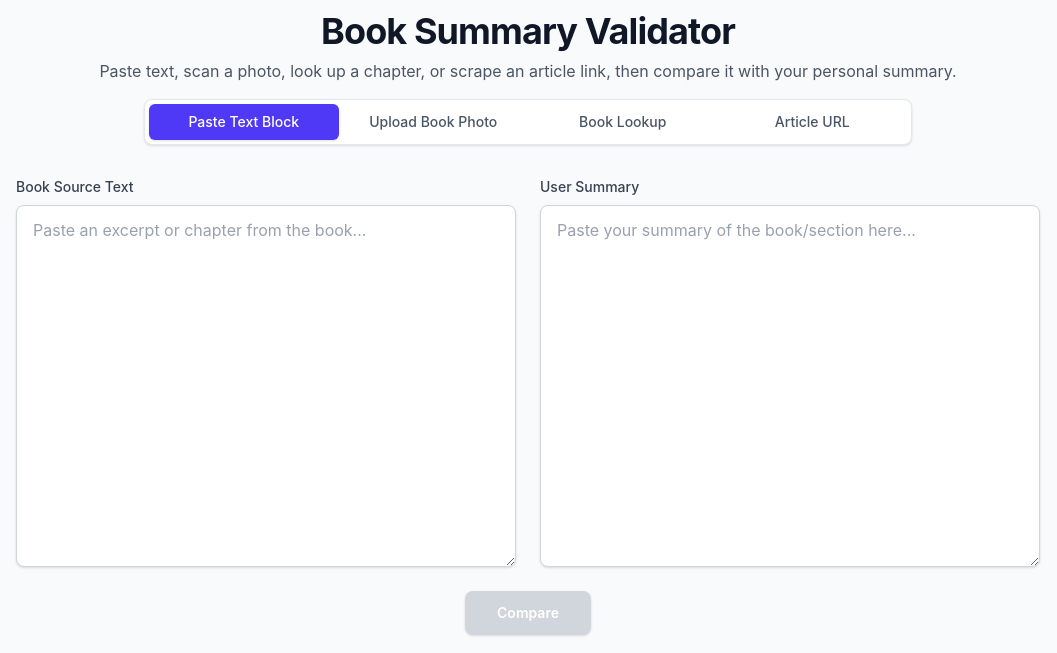
Test: App › switches to image mode and hides the book textarea
Click the tab "Upload Book Photo".
click(433, 122)  # box [338,104,528,140]
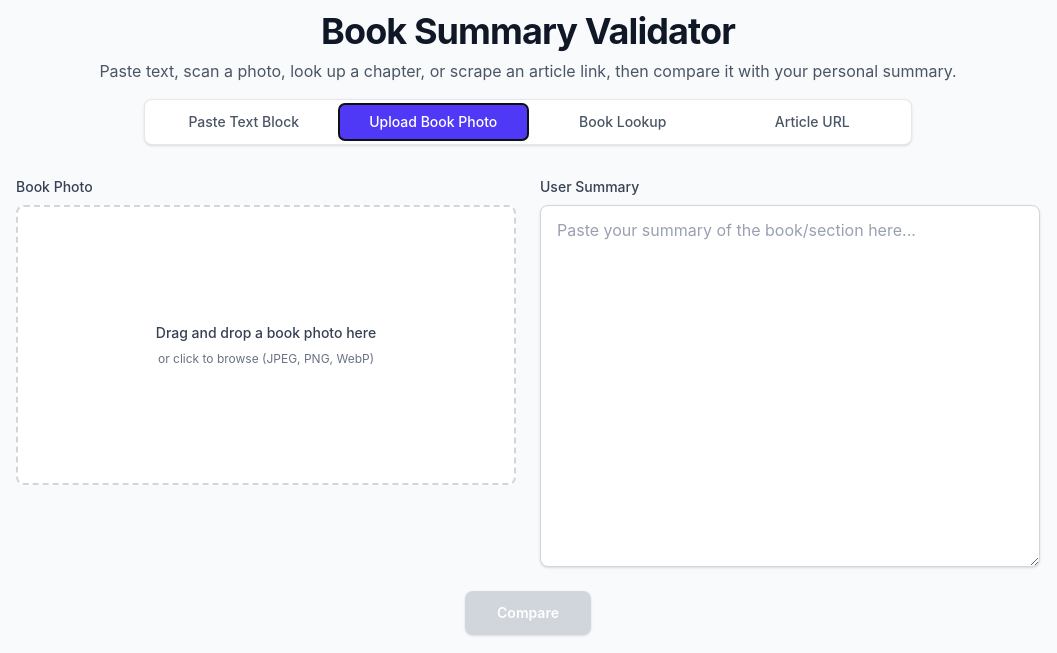
Expected: the text labelled "Book Source Text" is gone
Expected: the button with aria-label "upload book photo" is shown, [16,205,516,485]
